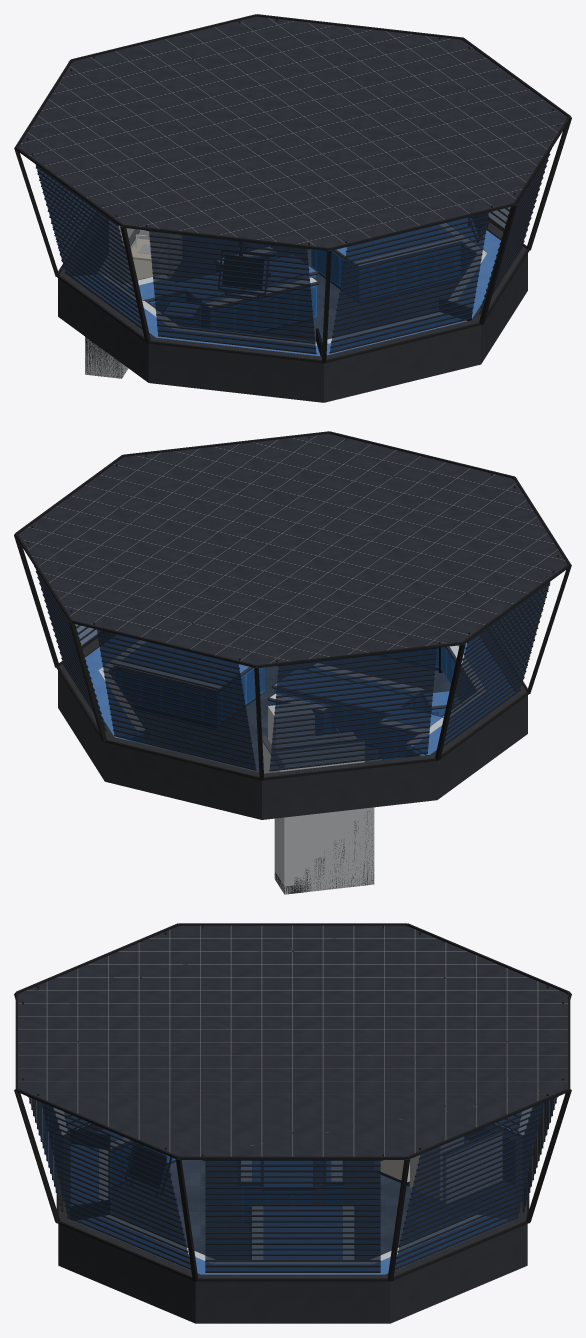
File: dca_tower_cab_interior.gltf
3 views of the same model, one above another, from view 1: azimuth 30°, elevation 25°; view 2: azimuth 150°, elevation 25°; view 3: azimuth 270°, elevation 25° (orthographic). The views are drawn at different scales.
Visible parts, largest first — view 1: TowerCab_Interior, TowerCab_Consoles, TowerCab_Console_HC_FD, TowerCab_Console_NCH, TowerCab_Kitchen, TowerCab_Console_ISLAND, TowerCab_Stairs, TowerCab_DbriteMount_Display, TowerCab_Console_RWALL, TowerCab_Shade_7_s00, TowerCab_Shade_7_s03, TowerCab_Shade_7_s07 (+39 smaller); view 2: TowerCab_Interior, TowerCab_Stairs, TowerCab_Consoles, TowerCab_Console_ISLAND, TowerCab_Console_CD, TowerCab_Console_HC_FD, TowerCab_CoreWalls, TowerCab_Kitchen, TowerCab_Console_RWALL, TowerCab_Console_NCH, TowerCab_Shade_5_s00, TowerCab_Shade_5_s05 (+39 smaller); view 3: TowerCab_Interior, TowerCab_Consoles, TowerCab_Console_HC_FD, TowerCab_CoreWalls, TowerCab_Kitchen, TowerCab_Console_ISLAND, TowerCab_Shade_2_s00, TowerCab_Shade_2_s01, TowerCab_Shade_2_s03, TowerCab_Shade_2_s04, TowerCab_Shade_2_s06, TowerCab_Shade_2_s08 (+61 smaller).
Boxes of the visible parts, x1=… form: TowerCab_Interior: x1=14, y1=14, x2=571, y2=402; TowerCab_Consoles: x1=73, y1=218, x2=500, y2=356; TowerCab_Console_HC_FD: x1=318, y1=225, x2=462, y2=303; TowerCab_Console_NCH: x1=199, y1=275, x2=319, y2=333; TowerCab_Kitchen: x1=127, y1=229, x2=179, y2=281; TowerCab_Console_ISLAND: x1=177, y1=254, x2=318, y2=326; TowerCab_Stairs: x1=85, y1=255, x2=128, y2=378; TowerCab_DbriteMount_Display: x1=218, y1=250, x2=269, y2=294; TowerCab_Console_RWALL: x1=121, y1=275, x2=185, y2=311; TowerCab_Shade_7_s00: x1=149, y1=231, x2=307, y2=252; TowerCab_Shade_7_s03: x1=150, y1=247, x2=308, y2=268; TowerCab_Shade_7_s07: x1=152, y1=268, x2=310, y2=289; TowerCab_Interior: x1=14, y1=431, x2=571, y2=819; TowerCab_Stairs: x1=274, y1=807, x2=374, y2=894; TowerCab_Consoles: x1=84, y1=635, x2=514, y2=757; TowerCab_Console_ISLAND: x1=271, y1=669, x2=415, y2=747; TowerCab_Console_CD: x1=114, y1=661, x2=224, y2=727; TowerCab_Console_HC_FD: x1=123, y1=642, x2=264, y2=723; TowerCab_CoreWalls: x1=262, y1=735, x2=364, y2=773; TowerCab_Kitchen: x1=268, y1=702, x2=356, y2=747; TowerCab_Console_RWALL: x1=376, y1=707, x2=443, y2=760; TowerCab_Console_NCH: x1=307, y1=663, x2=425, y2=710; TowerCab_Shade_5_s00: x1=278, y1=648, x2=436, y2=670; TowerCab_Shade_5_s05: x1=276, y1=675, x2=434, y2=696; TowerCab_Interior: x1=14, y1=923, x2=571, y2=1323; TowerCab_Consoles: x1=71, y1=1129, x2=511, y2=1274; TowerCab_Console_HC_FD: x1=250, y1=1206, x2=340, y2=1259; TowerCab_CoreWalls: x1=443, y1=1129, x2=503, y2=1203; TowerCab_Kitchen: x1=374, y1=1137, x2=463, y2=1200; TowerCab_Console_ISLAND: x1=261, y1=1161, x2=314, y2=1203; TowerCab_Shade_2_s00: x1=205, y1=1160, x2=380, y2=1164; TowerCab_Shade_2_s01: x1=205, y1=1166, x2=380, y2=1170; TowerCab_Shade_2_s03: x1=205, y1=1177, x2=380, y2=1181; TowerCab_Shade_2_s04: x1=205, y1=1183, x2=380, y2=1187; TowerCab_Shade_2_s06: x1=205, y1=1194, x2=380, y2=1198; TowerCab_Shade_2_s08: x1=205, y1=1205, x2=380, y2=1209.
Bounding box in the file's own units: 10.91 × 5.88 × 10.91.
